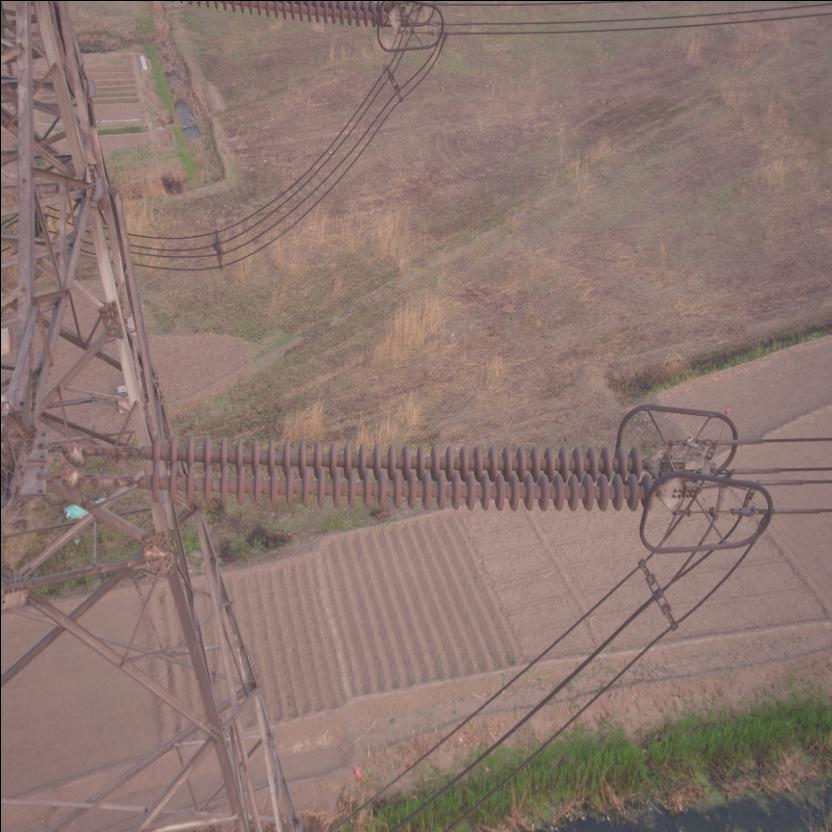insulator: (106, 424, 663, 512)
